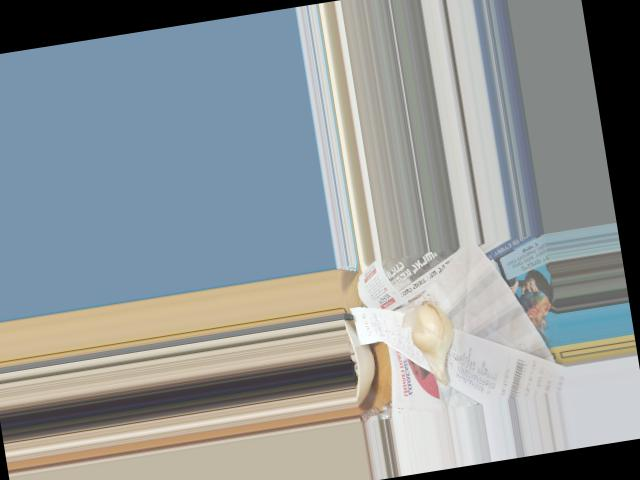onion: (405, 296, 459, 380)
